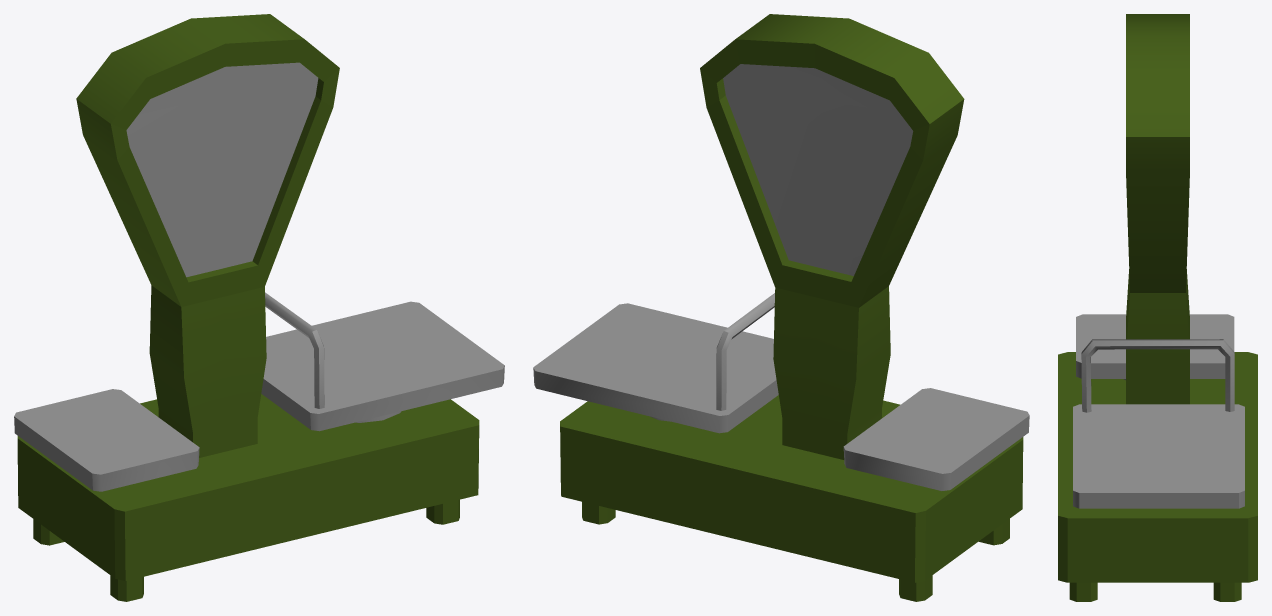
The picture shows the model from 3 angles, left to right: view 1: azimuth 30°, elevation 25°; view 2: azimuth 150°, elevation 25°; view 3: azimuth 270°, elevation 25°; orthographic projection. The views are drawn at different scales.
Visible parts, largest first — view 1: Vesy_store_002; view 2: Vesy_store_002; view 3: Vesy_store_002.
Part boxes in pixels (x1=…): Vesy_store_002: x1=14, y1=14, x2=504, y2=601; Vesy_store_002: x1=533, y1=14, x2=1029, y2=601; Vesy_store_002: x1=1058, y1=14, x2=1257, y2=601.
Size of the model in its own units: 63.14 by 74.13 by 28.5.
